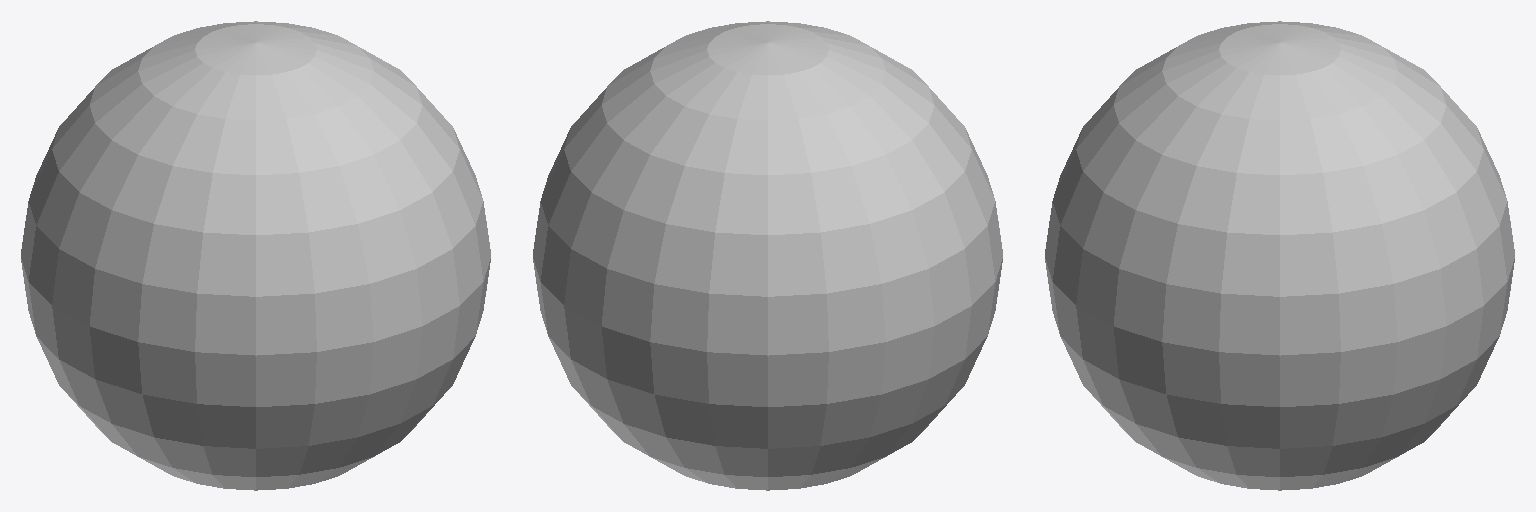
Rendered from Moon.obj.
3 renders of one model, left to right at view 1: azimuth 30°, elevation 25°; view 2: azimuth 150°, elevation 25°; view 3: azimuth 270°, elevation 25°, orthographic.
Visible parts, largest first — view 1: moon; view 2: moon; view 3: moon.
Part boxes in pixels (bbox=[...]): moon: bbox=[21, 21, 490, 490]; moon: bbox=[533, 21, 1002, 490]; moon: bbox=[1045, 21, 1514, 490].
Size of the model in its own units: 1 by 1 by 1.